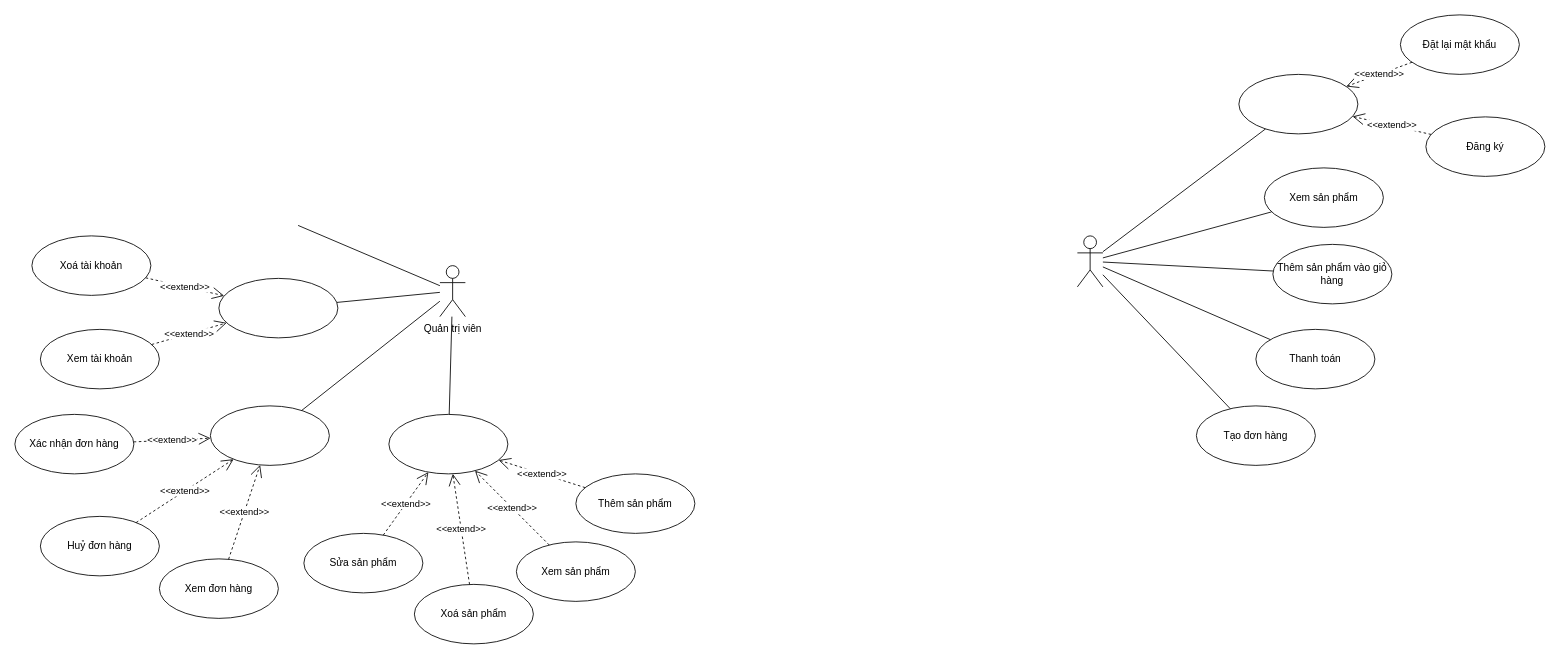
Image size: 1560x659. Some labels were removed from this diagram. Here are the shapes that lost their labels. From the top down, the centre of each, then its label:
At [1298,104]: "Đăng nhập".
At [1090,261]: "Khách hàng".
At [278,308]: "Quản lý tài khoản".
At [269,435]: "Quản lý đơn hàng".
At [448,444]: "Quản lý sản phẩm".
